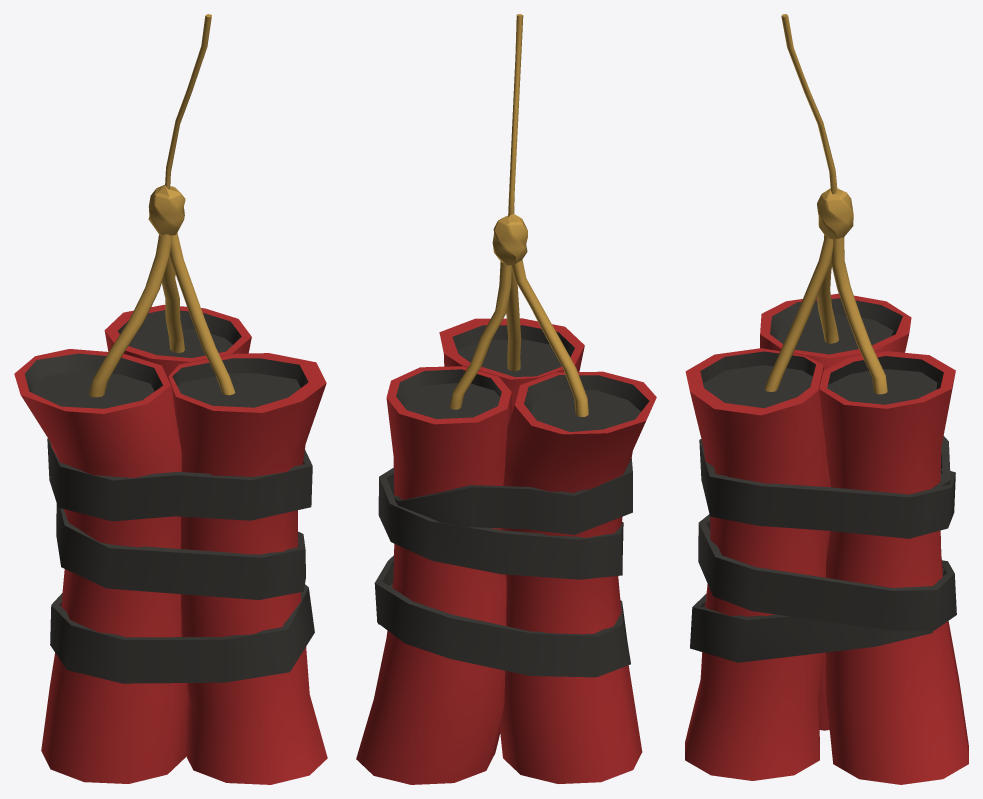
File: Dinamite.fbx
The picture shows the model from 3 angles, left to right: view 1: azimuth 30°, elevation 25°; view 2: azimuth 150°, elevation 25°; view 3: azimuth 270°, elevation 25°; orthographic projection. The views are drawn at different scales.
Visible parts, largest first — view 1: Dinamite; view 2: Dinamite; view 3: Dinamite.
Part boxes in pixels (bbox=[...]): Dinamite: bbox=[14, 14, 327, 784]; Dinamite: bbox=[356, 14, 656, 784]; Dinamite: bbox=[685, 14, 968, 784].
Bounding box in the file's own units: 17.51 × 47.13 × 16.81.
